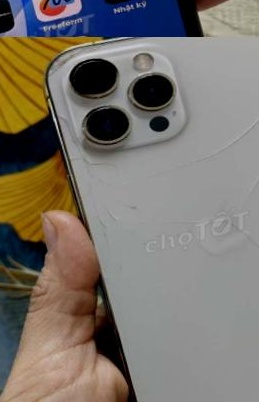physical_damage: (52, 44, 259, 372)
